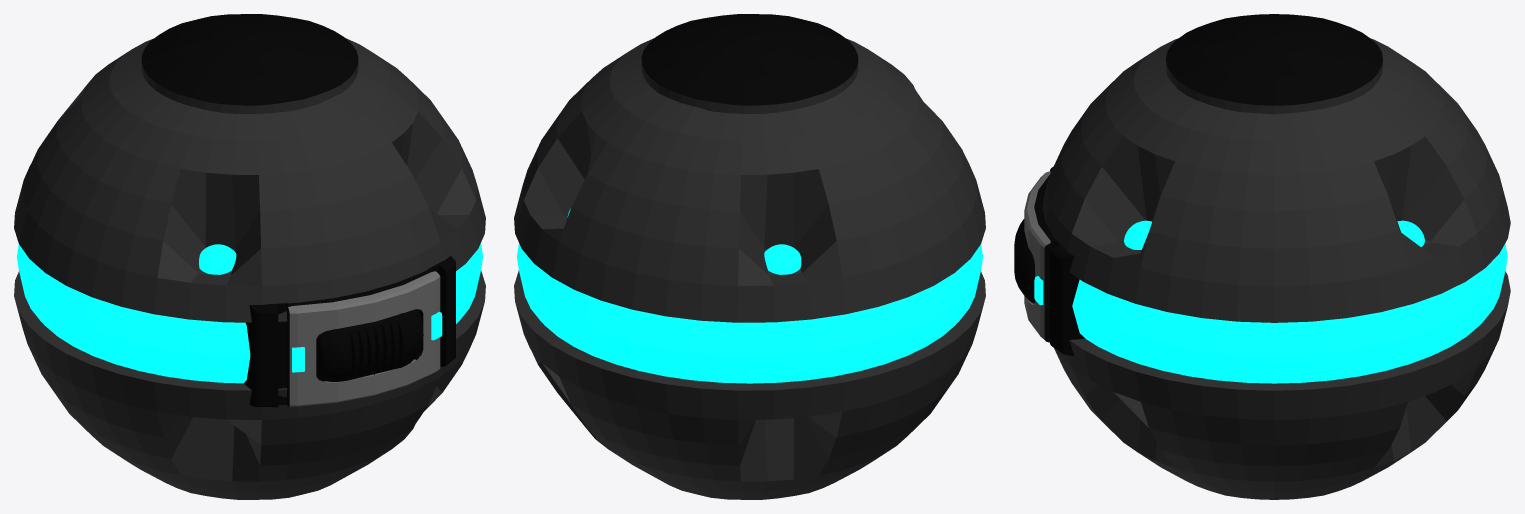
Rendered from BOMBA.fbx.
3 views of the same model, side by side, from view 1: azimuth 30°, elevation 25°; view 2: azimuth 150°, elevation 25°; view 3: azimuth 270°, elevation 25° (orthographic).
Parts seen in each view (by area): view 1: Sphere, Cylinder, Cylinder.001, Sphere.001, Cube; view 2: Sphere, Sphere.001; view 3: Sphere, Cylinder, Cylinder.001, Sphere.001.
Part boxes in pixels (box(x1,y1,x2,y2)): Sphere: box(14, 14, 485, 499); Cylinder: box(244, 256, 455, 407); Cylinder.001: box(316, 309, 423, 381); Sphere.001: box(199, 244, 236, 274); Cube: box(292, 312, 442, 372); Sphere: box(514, 14, 985, 499); Sphere.001: box(567, 208, 801, 274); Sphere: box(1042, 14, 1510, 499); Cylinder: box(1024, 167, 1085, 355); Cylinder.001: box(1014, 219, 1034, 303); Sphere.001: box(1124, 220, 1424, 249).
Bounding box in the file's own units: 198 × 199 × 208.
